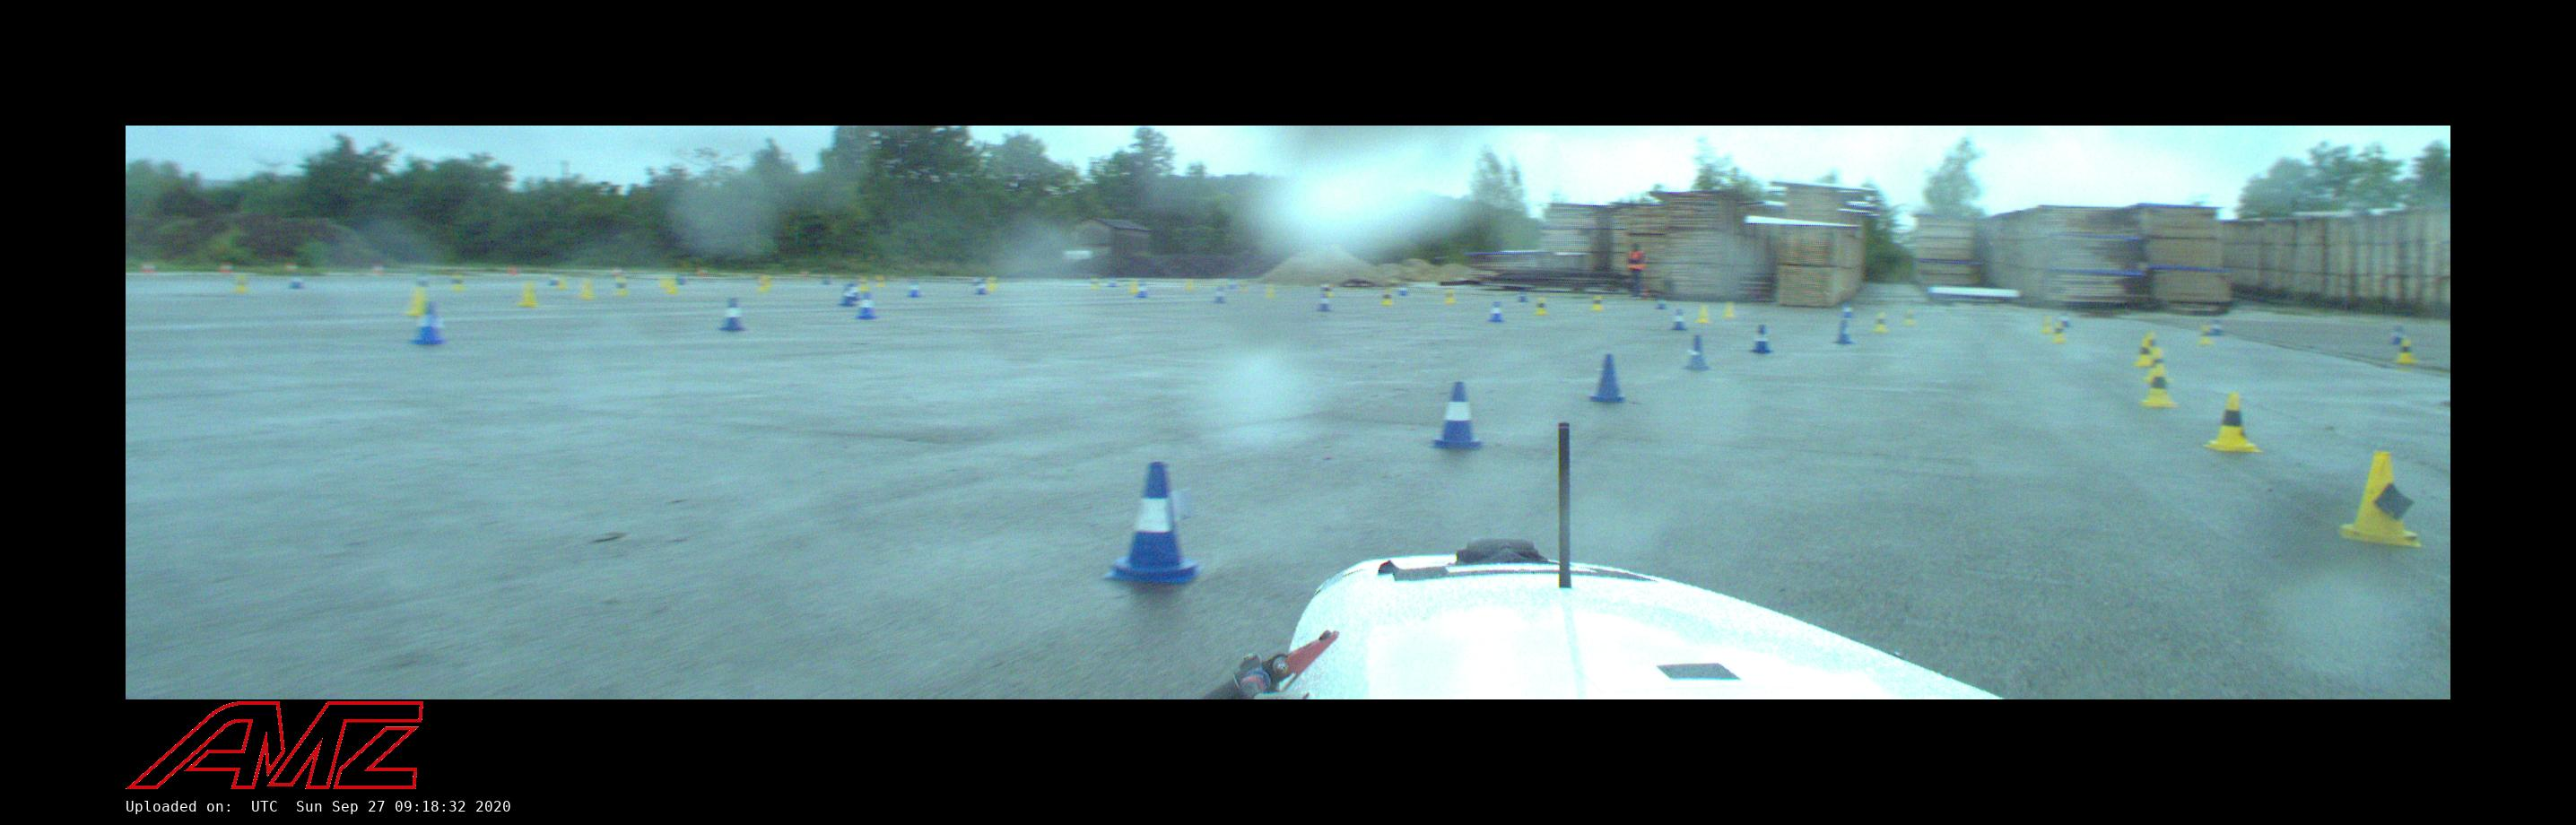blue_cone: (1102, 462, 1203, 583), (1433, 383, 1479, 445), (1589, 355, 1626, 401), (409, 304, 444, 345), (1682, 337, 1712, 370), (853, 293, 879, 319), (718, 299, 739, 329), (1750, 327, 1771, 352), (1487, 299, 1506, 322), (1833, 319, 1851, 343), (1671, 309, 1687, 330), (841, 284, 854, 306), (907, 278, 920, 297), (414, 270, 427, 288), (2057, 309, 2070, 327), (2392, 325, 2403, 345), (978, 276, 989, 296), (1212, 286, 1226, 302), (291, 271, 302, 289), (1318, 296, 1331, 311), (1842, 302, 1855, 317), (821, 270, 833, 286), (1516, 286, 1528, 302), (1107, 273, 1119, 288), (2211, 319, 2221, 334), (549, 271, 559, 284), (1138, 283, 1147, 297), (1398, 284, 1408, 296), (1658, 299, 1666, 309)
orange_cone: (141, 260, 156, 276), (218, 261, 233, 273), (373, 261, 384, 276), (698, 263, 710, 278), (286, 263, 297, 276), (506, 263, 518, 276), (613, 265, 624, 278), (800, 265, 812, 278)
yellow_cone: (2339, 454, 2420, 549), (2203, 394, 2264, 452), (2139, 366, 2177, 406), (2132, 337, 2157, 366), (406, 288, 425, 316), (2395, 339, 2415, 363), (519, 283, 537, 306), (580, 278, 595, 301), (1873, 312, 1888, 332), (450, 273, 465, 291), (2052, 322, 2065, 342), (2151, 335, 2162, 357), (613, 278, 628, 294), (554, 274, 568, 291), (1534, 297, 1548, 316), (2198, 325, 2210, 345), (1380, 289, 1393, 306), (235, 276, 248, 293), (1722, 302, 1735, 317), (1699, 307, 1710, 324), (667, 279, 679, 296), (2042, 317, 2052, 335), (1904, 309, 1914, 325), (1324, 281, 1334, 297), (1592, 294, 1602, 311), (759, 276, 769, 293), (987, 278, 997, 294), (659, 276, 672, 288), (876, 273, 885, 288), (1091, 276, 1101, 291), (1267, 284, 1275, 301), (858, 276, 867, 289), (1446, 291, 1456, 302), (1129, 281, 1138, 293), (1184, 279, 1194, 289), (1240, 281, 1247, 291)
